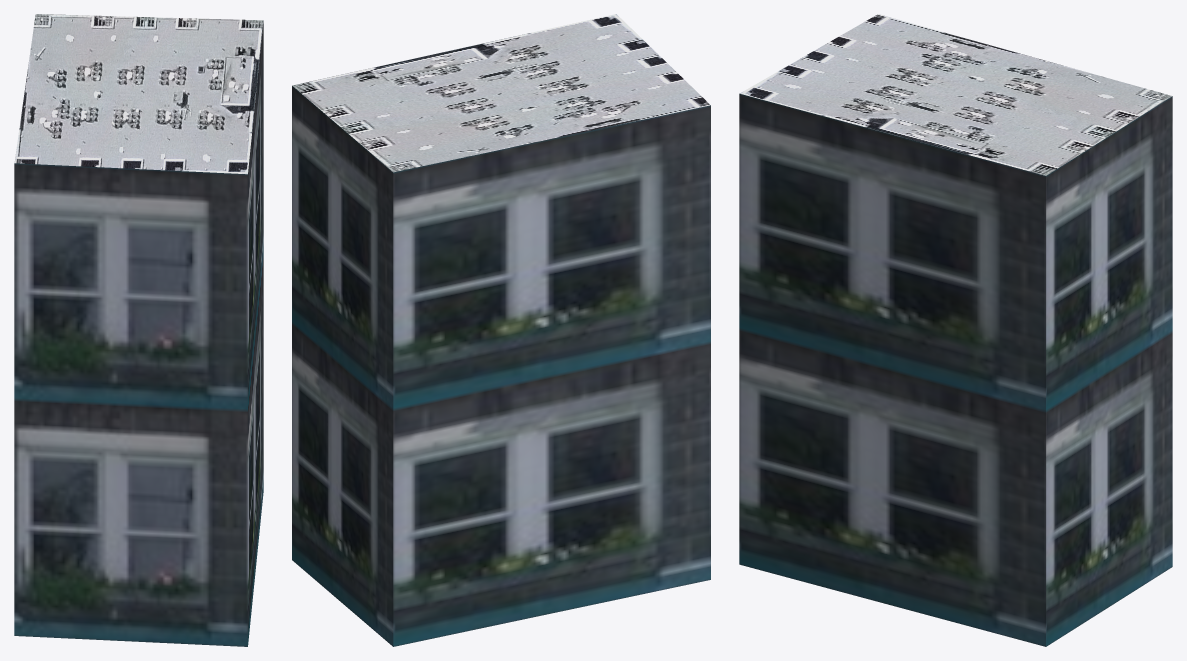
File: ResTex__494.fbx
The picture shows the model from 3 angles, left to right: view 1: azimuth 30°, elevation 25°; view 2: azimuth 150°, elevation 25°; view 3: azimuth 270°, elevation 25°; orthographic projection.
Parts seen in each view (by area): view 1: CityEngineMaterial_11_m, CityEngineMaterial_m; view 2: CityEngineMaterial_11_m, CityEngineMaterial_m; view 3: CityEngineMaterial_11_m, CityEngineMaterial_m.
Boxes of the visible parts, box(x1,y1,x2,y2) form: CityEngineMaterial_11_m: box(14, 20, 263, 646); CityEngineMaterial_m: box(14, 14, 263, 174); CityEngineMaterial_11_m: box(292, 86, 710, 646); CityEngineMaterial_m: box(292, 14, 710, 172); CityEngineMaterial_11_m: box(739, 93, 1172, 646); CityEngineMaterial_m: box(740, 14, 1171, 175).
Bounding box in the file's own units: 4.43 × 6 × 5.
2 materials, 2 textured.
